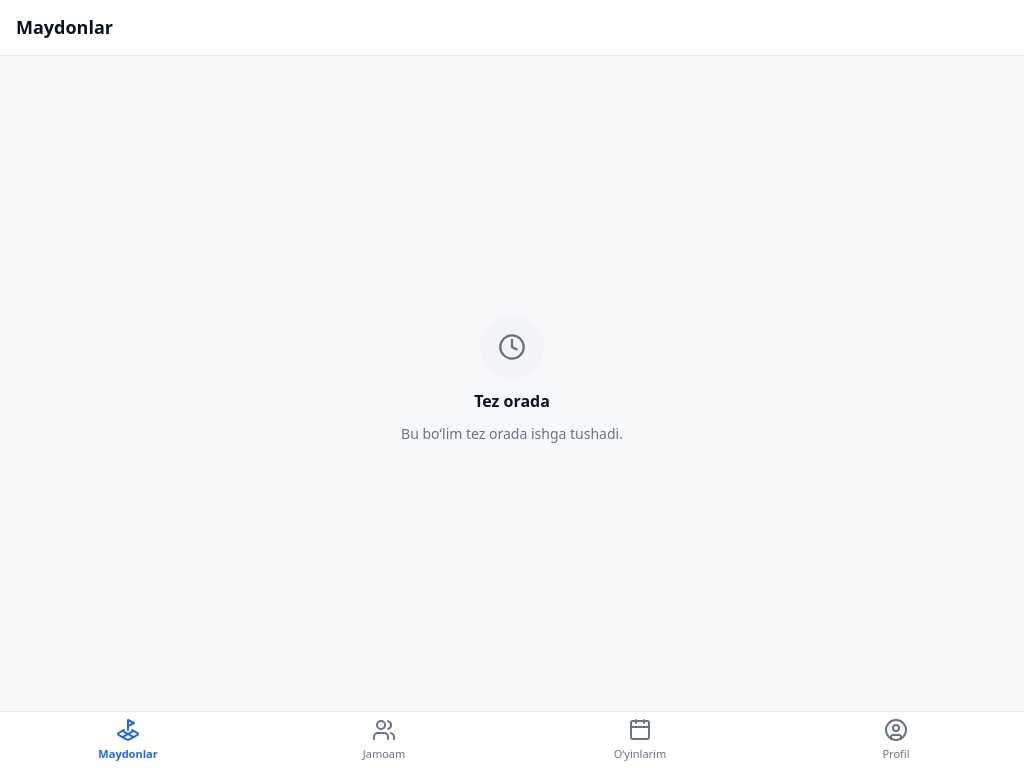
it: Mini App shell › shows "Tez orada" on the tabs later parts build
expect the heading "Tez orada" is shown: met, box [474, 390, 550, 412]
What coordinates should you click on to do the following:
click the link "Jamoam"
I would click on:
 (384, 740)
Its box is [363, 718, 405, 761].
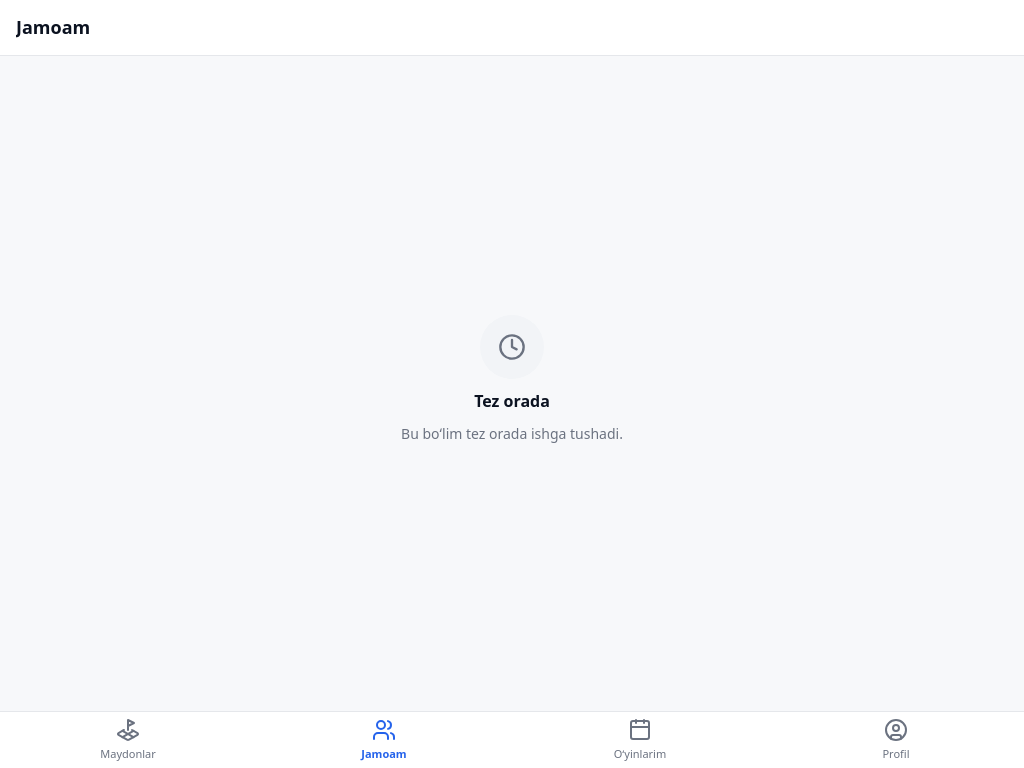
expect the heading "Tez orada" is shown: met, box [474, 390, 550, 412]
expect the heading "Jamoam" is shown: met, box [16, 15, 90, 39]
What coordinates should you click on to do the following:
click the link "Oʻyinlarim"
I would click on:
 (640, 740)
Its box is [614, 718, 666, 761].
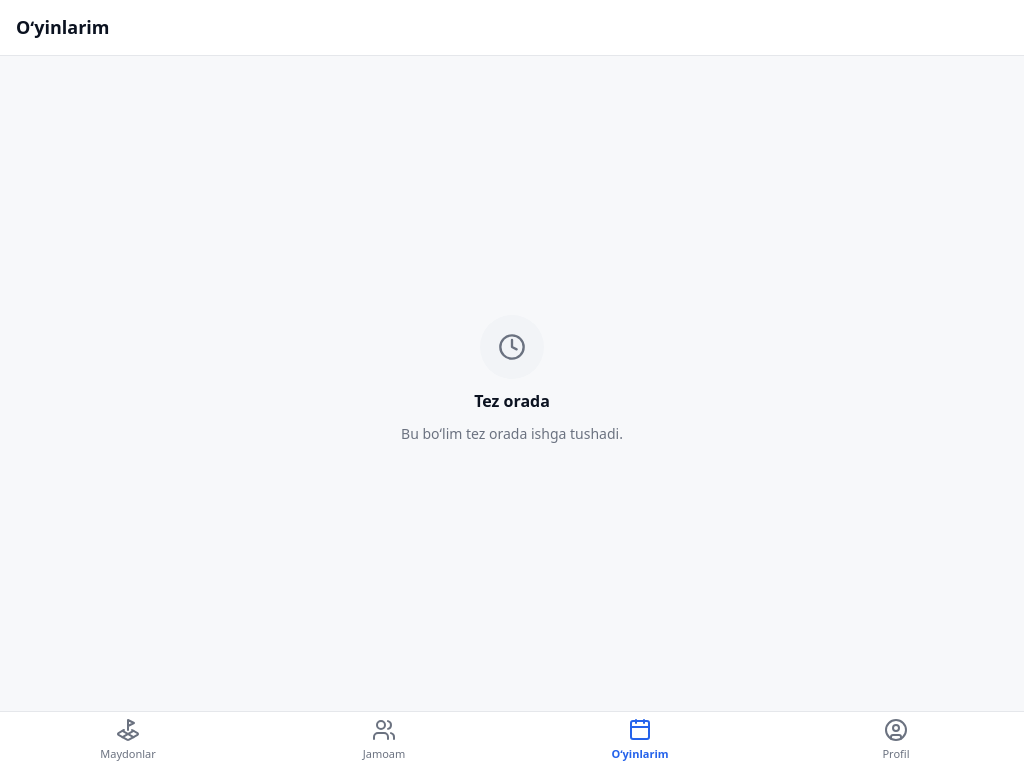
expect the heading "Oʻyinlarim" is shown: met, box [16, 15, 110, 39]
